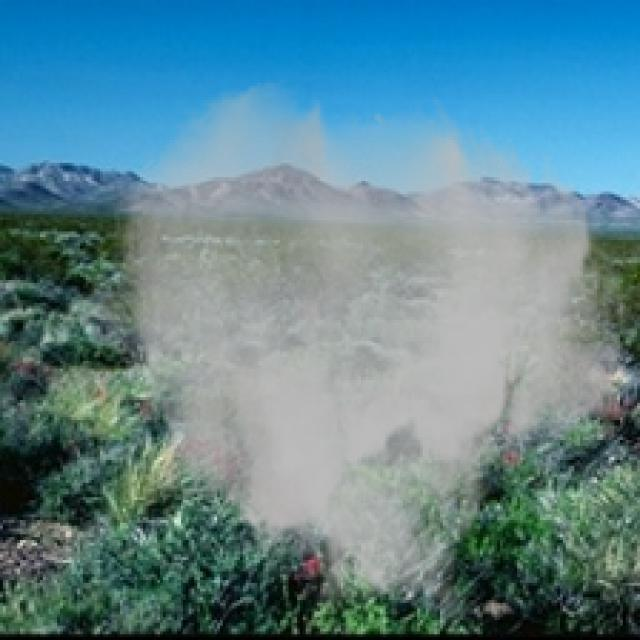smoke: (80, 77, 631, 632)
